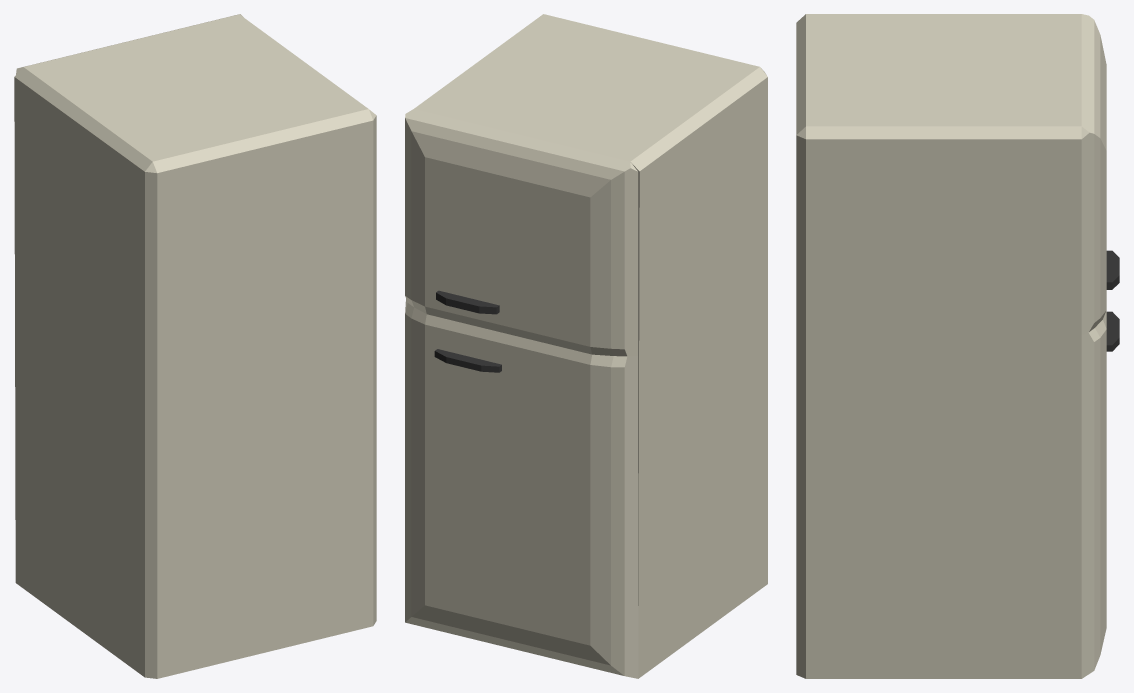
The model's file is Fridge.fbx.
3 renders of one model, left to right at view 1: azimuth 30°, elevation 25°; view 2: azimuth 150°, elevation 25°; view 3: azimuth 270°, elevation 25°, orthographic. The views are drawn at different scales.
Visible parts, largest first — view 1: Fridge; view 2: Fridge, FridgeDoor2, FridgeDoor1; view 3: Fridge, FridgeDoor2, FridgeDoor1.
Boxes of the visible parts, x1,y1,x2,y2 form: Fridge: (14,14,376,678); Fridge: (414,14,767,678); FridgeDoor2: (405,300,638,678); FridgeDoor1: (405,109,638,356); Fridge: (796,14,1081,678); FridgeDoor2: (1081,310,1119,678); FridgeDoor1: (1081,14,1119,334).
Size of the model in its own units: 0.9086 by 0.8064 by 1.7.
